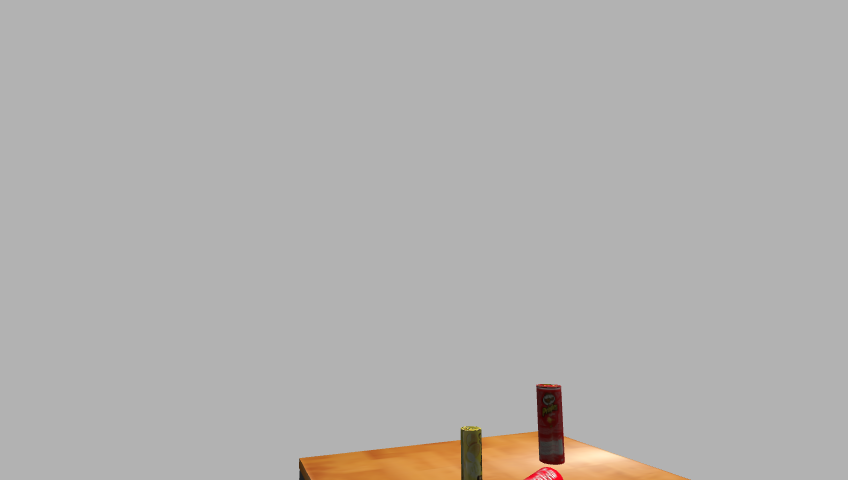biscuits pack: (459, 426, 484, 480)
coke can: (511, 467, 568, 480)
dinner table: (286, 430, 742, 480)
pringles can: (533, 383, 566, 467)
